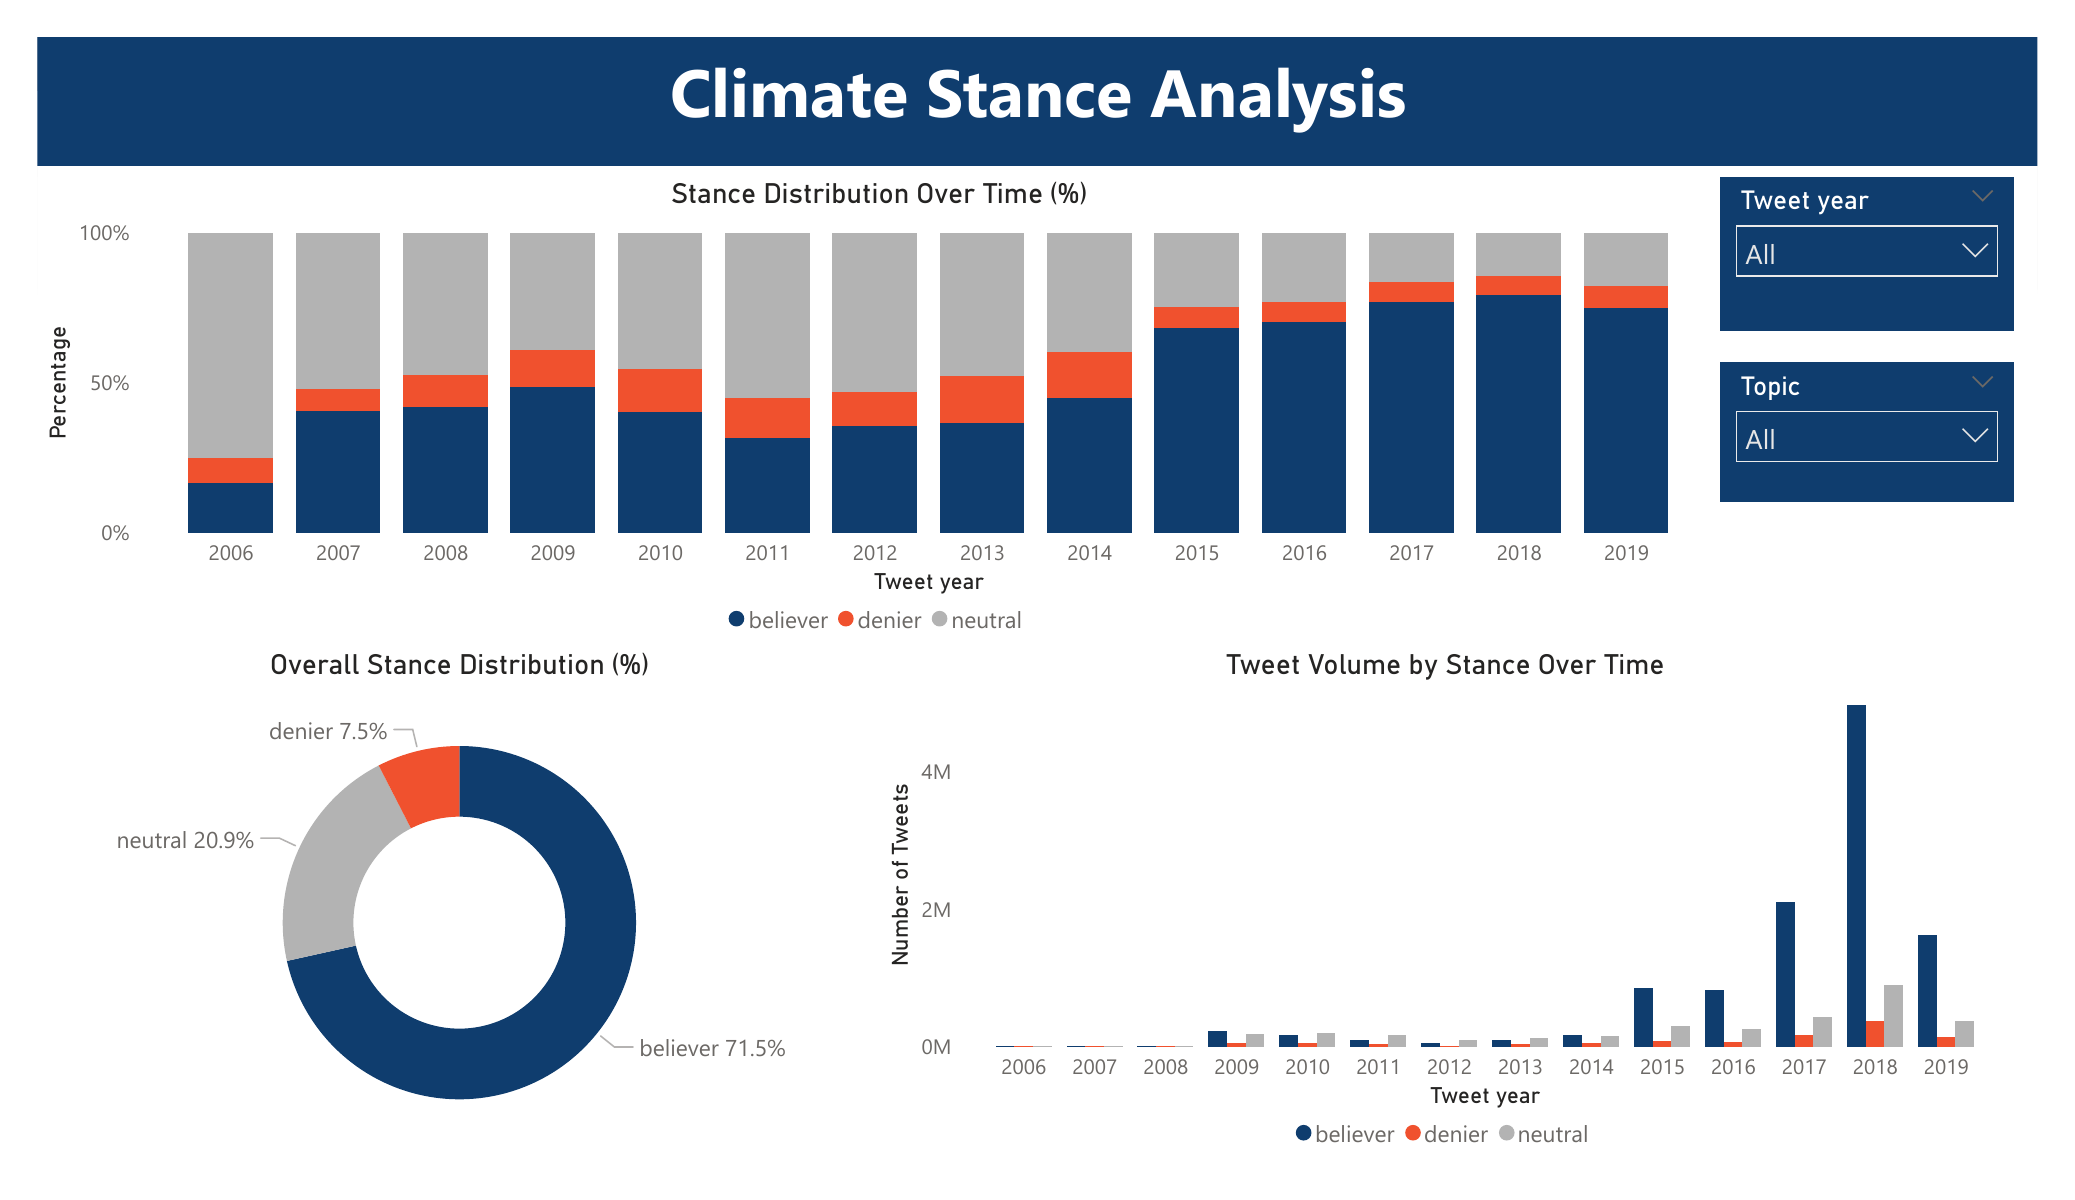

Layout of this report page (visuals, bound fields, positions):
{"tool":"tableau","page":{"name":"Page 3","canvas":[1220,700],"ordinal":4},"visuals":[{"type":"text","box":[40.7,7,1154.7,41]},{"type":"worksheet","title":"Sheet 5 (3)","mark":"Text","box":[41.9,47,406.7,52]},{"type":"worksheet","title":"Sheet 5 (2)","mark":"Text","box":[414.1,47,391.9,50]},{"type":"worksheet","title":"Sheet 5 (4)","mark":"Text","box":[808.4,47,404.2,51]},{"type":"worksheet","title":"Sheet 15","mark":"Automatic","rows":["country"],"cols":["Calculation_1402216471646209"],"box":[40,102,1033,269]},{"type":"filter","title":"Sheet 16","param":"[federated.0t04x5t1wbccgz1bu4hci1i13do6].[yr:orderDate:ok]","box":[1085,135,126,51]},{"type":"filter","title":"Sheet 17 (2)","param":"[federated.0t04x5t1wbccgz1bu4hci1i13do6].[none:companyName (shippers):nk]","box":[1088,189,123,54]},{"type":"worksheet","title":"Sheet 17","mark":"Automatic","rows":["employeeName"],"cols":["Calculation_1402216471646209"],"box":[718.4,368,488,278]},{"type":"worksheet","title":"Sheet 16","mark":"Circle","rows":["freight"],"cols":["Calculation_1402216471646209"],"box":[37,369,473.2,284]},{"type":"worksheet","title":"Sheet 17 (2)","mark":"Pie","box":[530,371,167,203]},{"type":"legend","title":"Sheet 17 (2)","param":"[federated.0t04x5t1wbccgz1bu4hci1i13do6].[none:companyName (shippers):nk]","box":[563,568,133,77]}]}

Visuals, with their boxes in screenshot pixels (x1, y1, x2, y2), scaled from the page's 1220x700 canvas onto the 2075x1200 screenshot:
text: rect(69, 12, 2033, 82)
"Sheet 5 (3)" worksheet (Text marks): rect(71, 81, 763, 170)
"Sheet 5 (2)" worksheet (Text marks): rect(704, 81, 1371, 166)
"Sheet 5 (4)" worksheet (Text marks): rect(1375, 81, 2062, 168)
"Sheet 15" worksheet: rect(68, 175, 1825, 636)
"Sheet 16" filter: rect(1845, 231, 2060, 319)
"Sheet 17 (2)" filter: rect(1850, 324, 2060, 417)
"Sheet 17" worksheet: rect(1222, 631, 2052, 1107)
"Sheet 16" worksheet (Circle marks): rect(63, 633, 868, 1119)
"Sheet 17 (2)" worksheet (Pie marks): rect(901, 636, 1185, 984)
"Sheet 17 (2)" legend: rect(958, 974, 1184, 1106)
